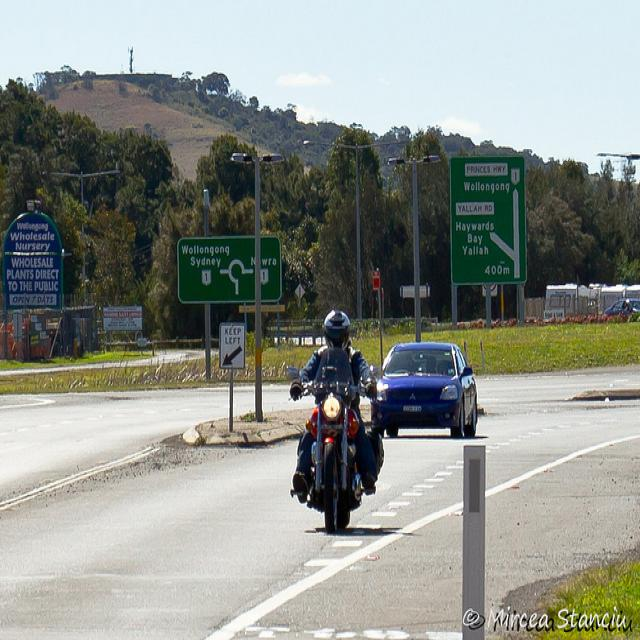motor: (303, 373, 369, 538)
